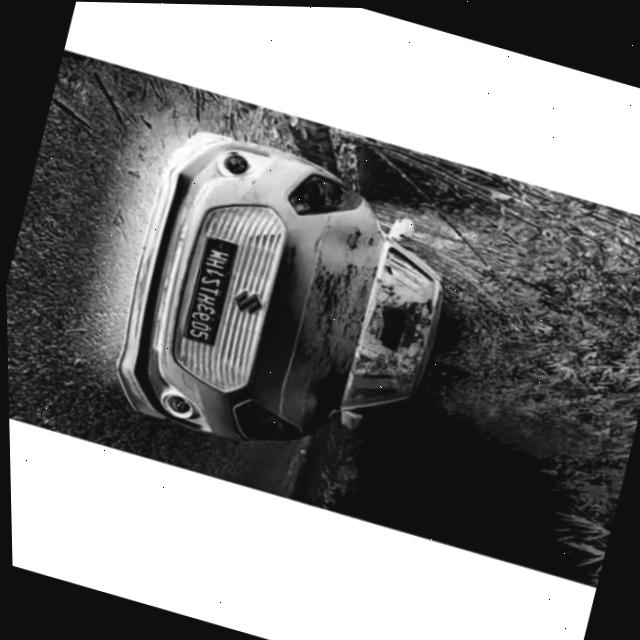0: (187, 318, 208, 331)
1: (199, 266, 222, 277)
2: (196, 272, 220, 288)
3: (191, 300, 212, 314)
5: (184, 326, 208, 341)
6: (189, 308, 209, 321)
H: (191, 290, 217, 305), (202, 256, 223, 269)
IND: (211, 237, 232, 254)
Indian_registered: (182, 236, 234, 344)
M: (203, 246, 227, 261)
T: (193, 280, 218, 297)
